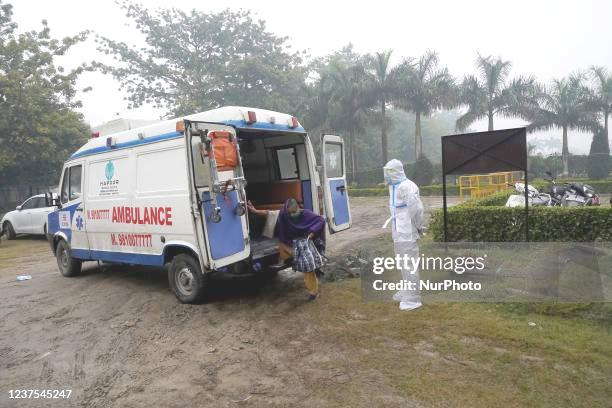ambulance: (52, 149, 193, 284)
